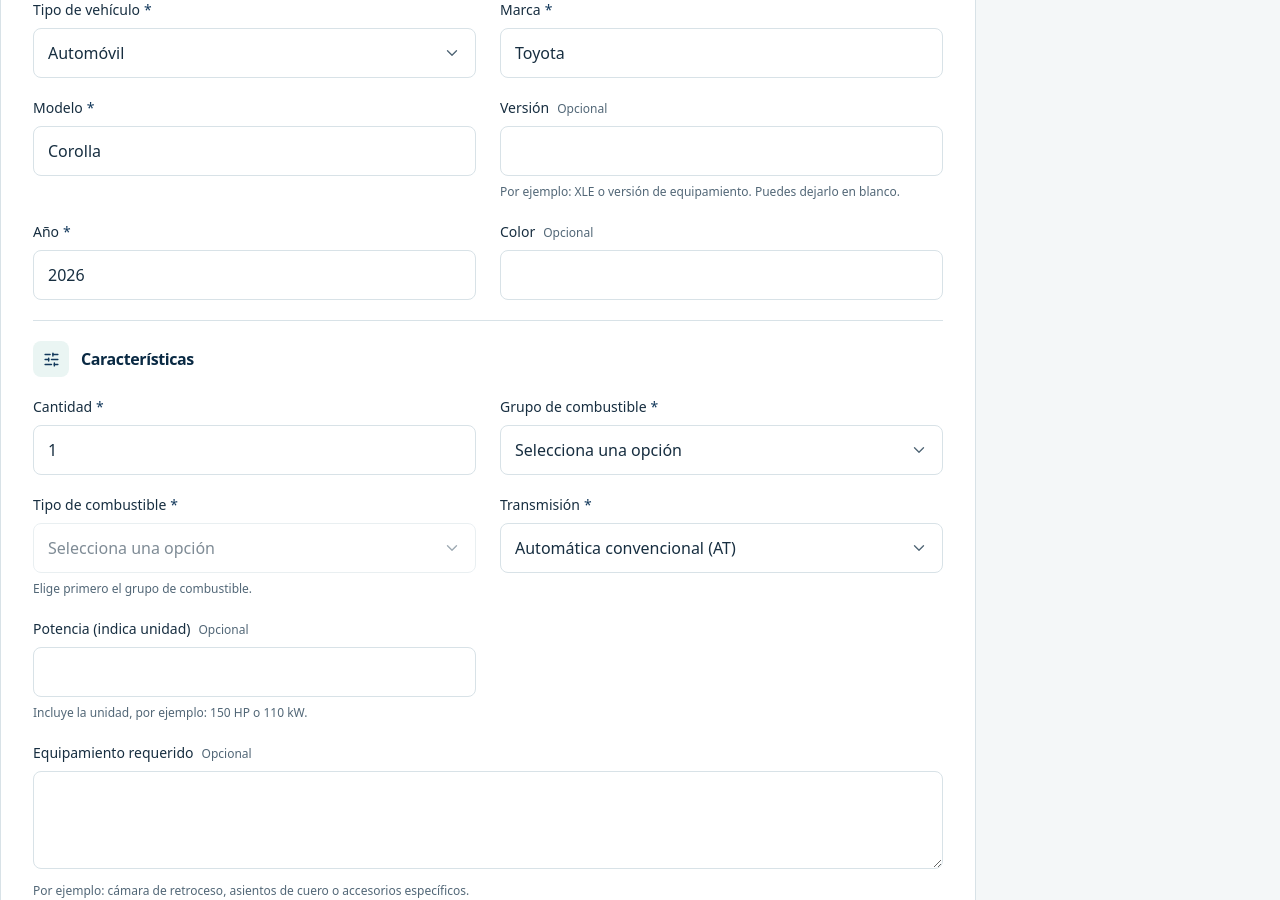
Flujo público FRI › indica que primero debe elegir un grupo de combustible
(page scrolled)
Expected: the dropdown labelled "Tipo de combustible*" is disabled, [33,523,476,573]
Expected: the text "Elige primero el grupo de combustible." is shown, [33,580,252,597]
Select "Eléctrico e híbrido" in the dropdown labelled "Grupo de combustible*" at (722, 450), box [500,425,943,475]
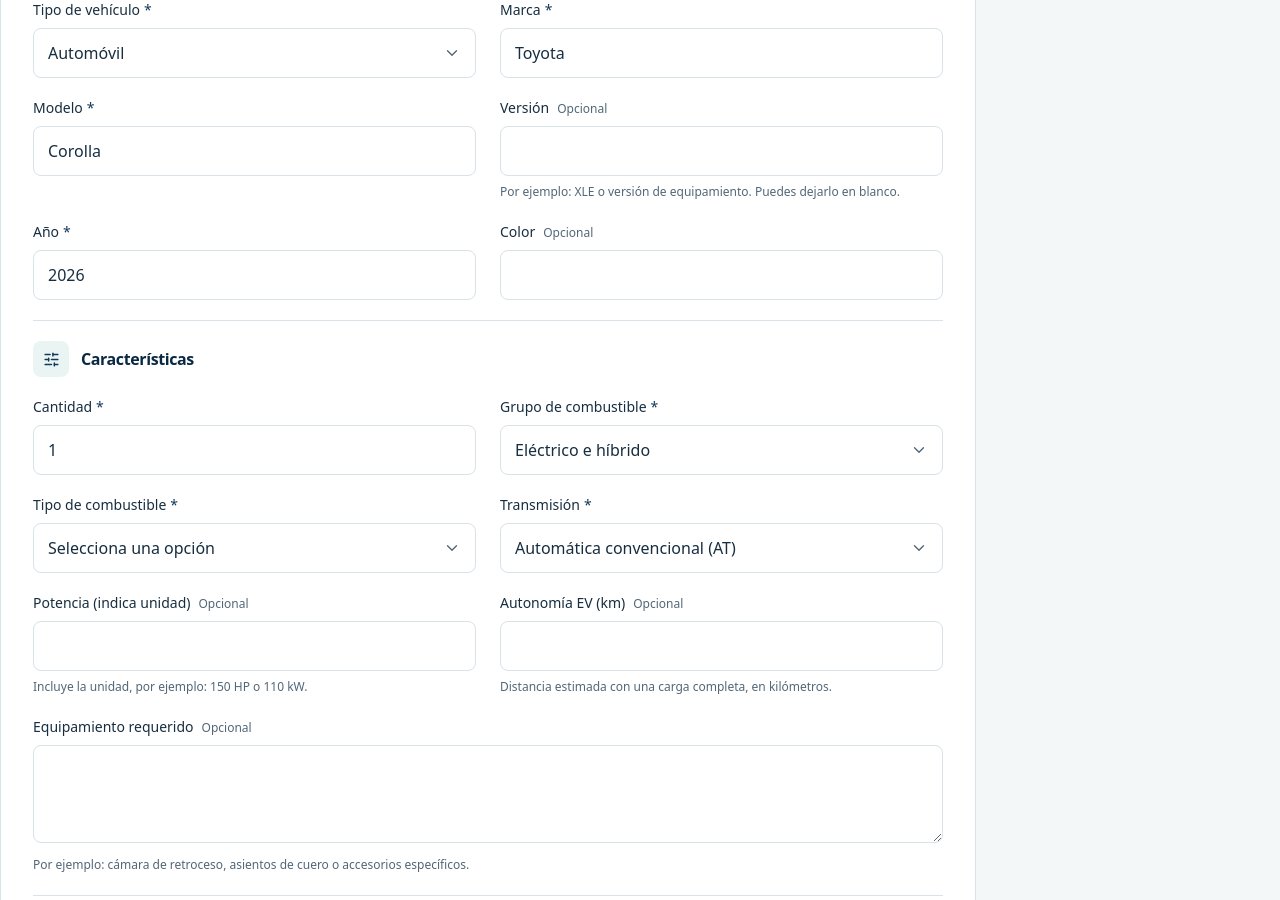
Expected: the dropdown labelled "Tipo de combustible*" is enabled, [33,523,476,573]
